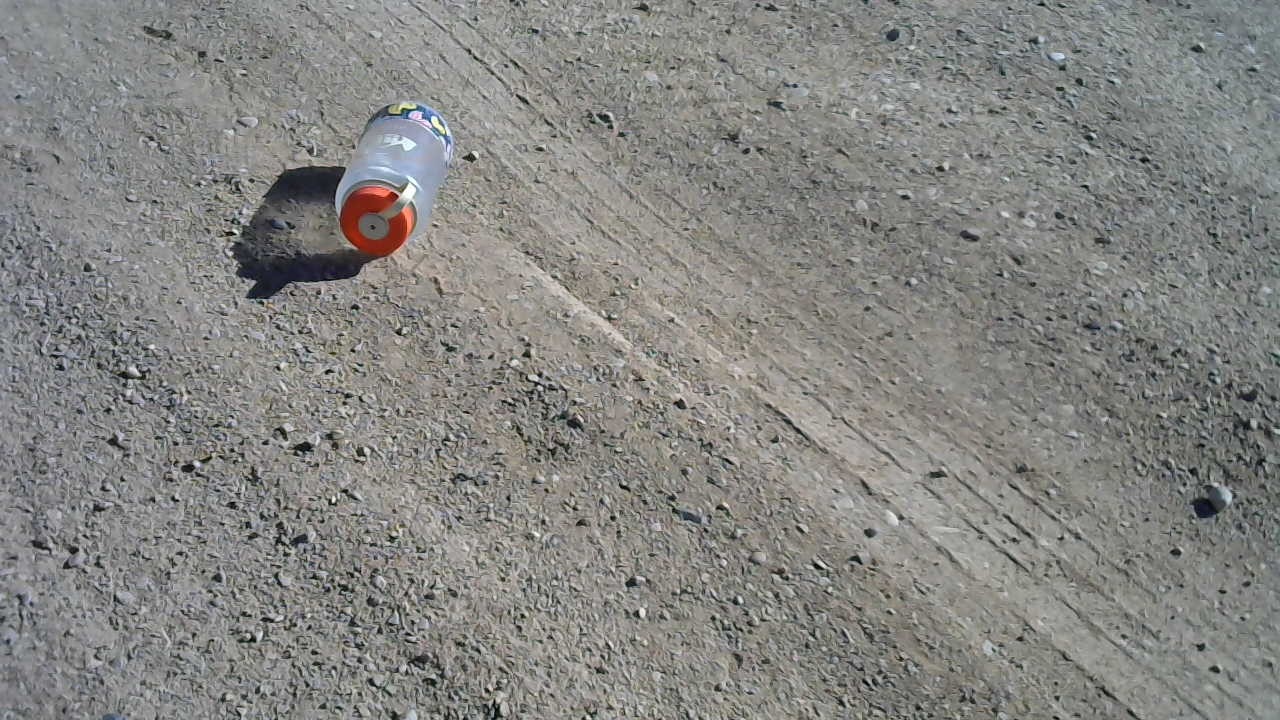bottle: (332, 98, 455, 256)
